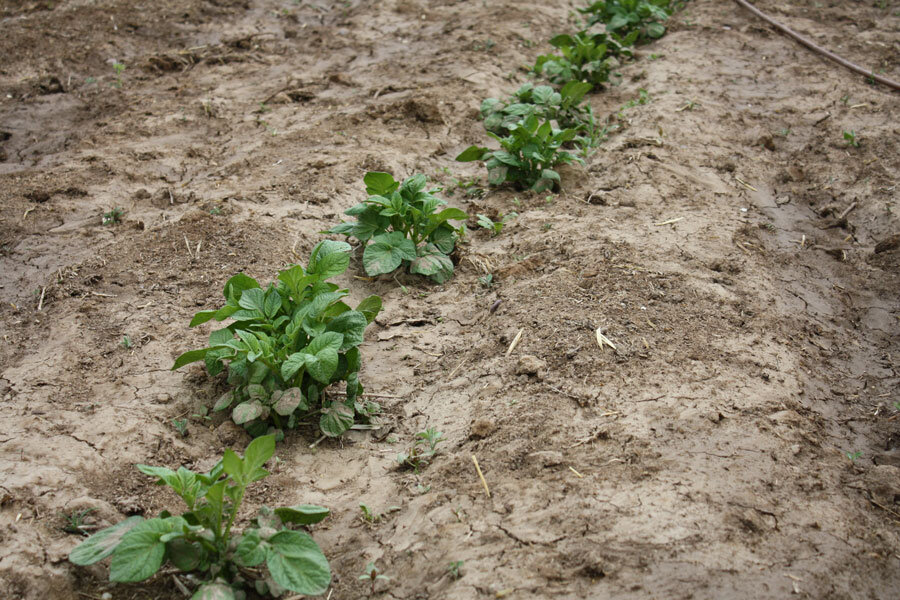potato_plant: (170, 235, 388, 442), (71, 435, 341, 600), (337, 164, 467, 285)
